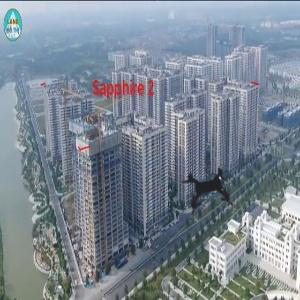drone: (160, 142, 261, 243)
